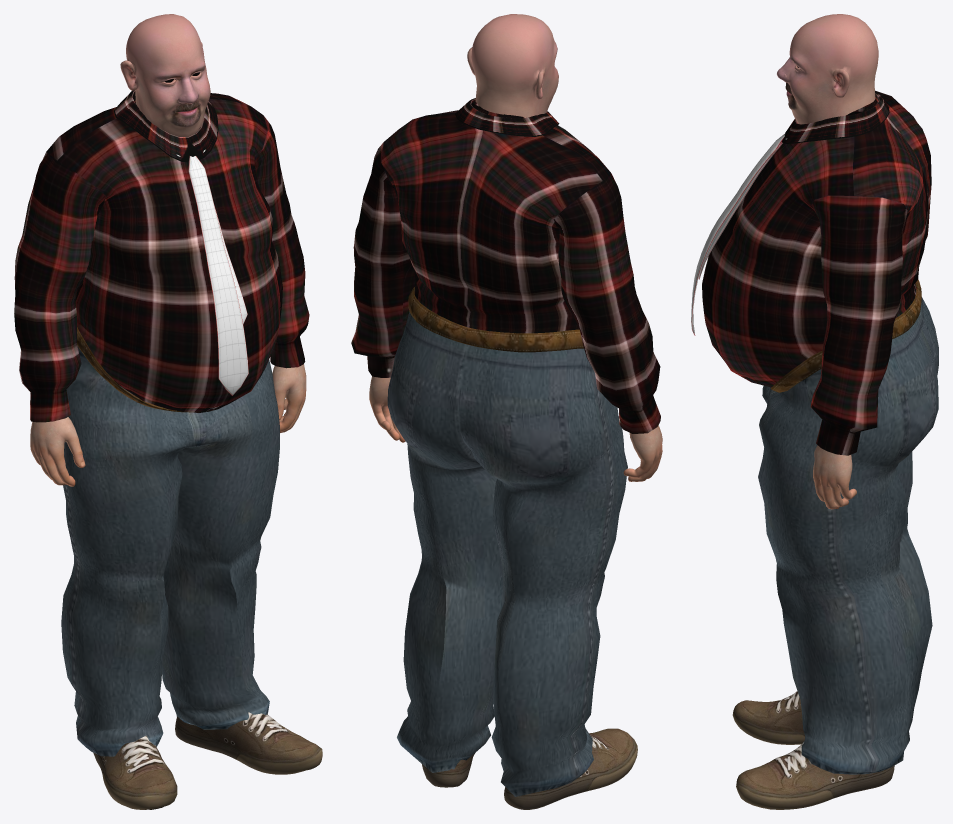
Rendered from 3D-Man-7.dae.
3 views of the same model, side by side, from view 1: azimuth 30°, elevation 25°; view 2: azimuth 150°, elevation 25°; view 3: azimuth 270°, elevation 25° (orthographic). The views are drawn at different scales.
Parts seen in each view (by area): view 1: group_1 (×2), group_12, group_8, group_0, group_11, group_10, group_6, group_7, group_9; view 2: group_12, group_1 (×2), group_8, group_10, group_9, group_6, group_7, group_11; view 3: group_1 (×2), group_12, group_8, group_11, group_10, group_7, group_0 (×2), group_9.
Boxes of the visible parts, x1=… form: group_1 (×2): x1=14, y1=90, x2=309, y2=422; group_12: x1=61, y1=346, x2=279, y2=756; group_8: x1=120, y1=14, x2=210, y2=136; group_0: x1=188, y1=156, x2=248, y2=395; group_11: x1=175, y1=712, x2=322, y2=774; group_10: x1=93, y1=735, x2=177, y2=809; group_6: x1=30, y1=417, x2=85, y2=486; group_7: x1=272, y1=364, x2=306, y2=432; group_9: x1=77, y1=327, x2=183, y2=412; group_12: x1=387, y1=312, x2=627, y2=796; group_1 (×2): x1=351, y1=98, x2=660, y2=433; group_8: x1=467, y1=14, x2=558, y2=117; group_10: x1=504, y1=728, x2=637, y2=809; group_9: x1=408, y1=287, x2=583, y2=352; group_6: x1=623, y1=425, x2=662, y2=481; group_7: x1=369, y1=376, x2=405, y2=442; group_11: x1=422, y1=753, x2=474, y2=787; group_1 (×2): x1=702, y1=90, x2=931, y2=455; group_12: x1=758, y1=297, x2=938, y2=774; group_8: x1=777, y1=14, x2=878, y2=124; group_11: x1=736, y1=742, x2=894, y2=809; group_10: x1=732, y1=691, x2=805, y2=744; group_7: x1=813, y1=445, x2=856, y2=509; group_0 (×2): x1=691, y1=121, x2=797, y2=335; group_9: x1=770, y1=279, x2=921, y2=392.
Bounding box in the file's own units: 28.83 × 21.81 × 71.98.
Materials: 12 (12 with a texture image).
